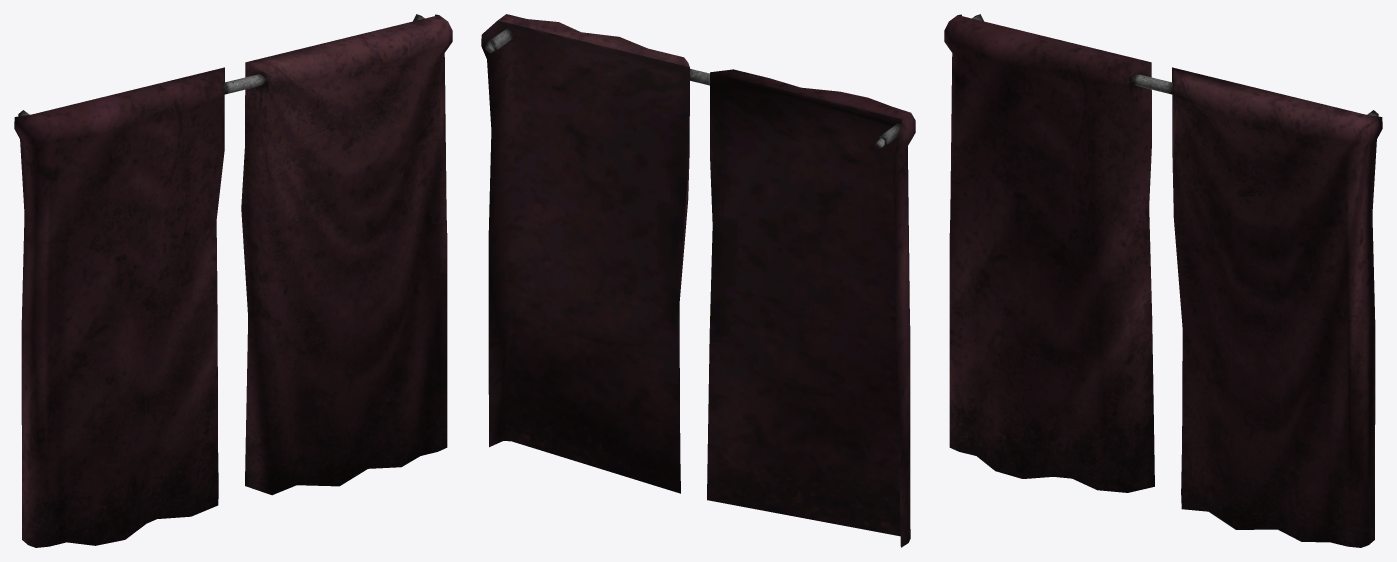
The model's file is 42_curtain01_closed.dae.
3 renders of one model, left to right at view 1: azimuth 30°, elevation 25°; view 2: azimuth 150°, elevation 25°; view 3: azimuth 330°, elevation 25°, orthographic.
Visible parts, largest first — view 1: curtain01_closed; view 2: curtain01_closed; view 3: curtain01_closed.
Boxes of the visible parts, x1,y1,x2,y2 form: curtain01_closed: (14, 14, 452, 547); curtain01_closed: (481, 14, 915, 547); curtain01_closed: (944, 14, 1382, 547).
Bounding box in the file's own units: 3.74 × 3.68 × 0.508.
Materials: 1 (1 with a texture image).
